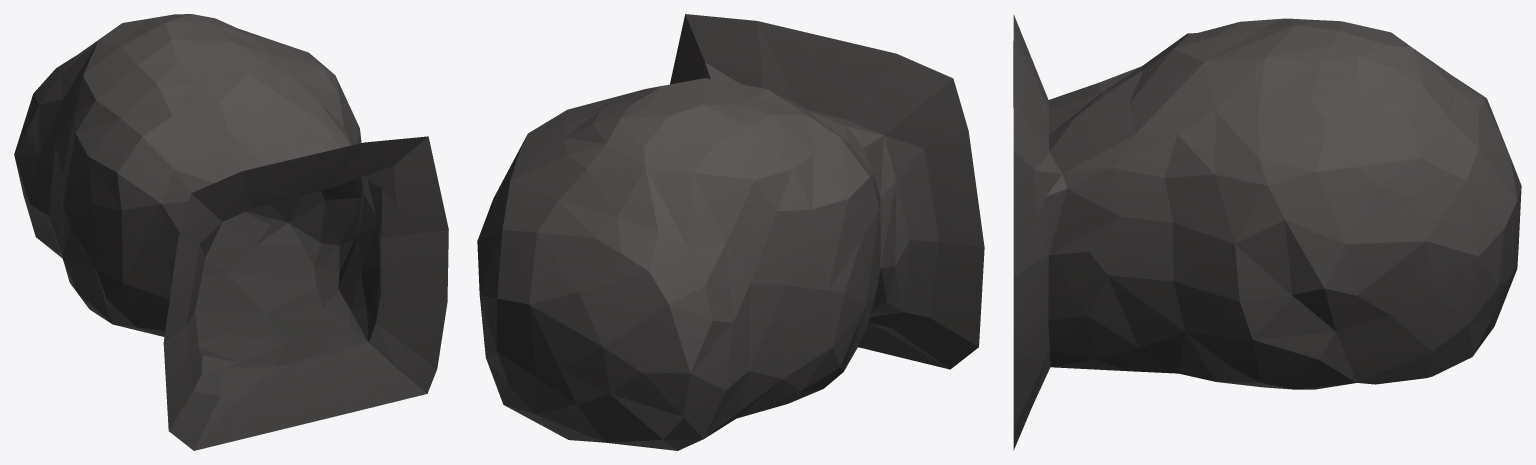
Rendered from ZLP_Cave_B_4.FBX.
3 views of the same model, side by side, from view 1: azimuth 30°, elevation 25°; view 2: azimuth 150°, elevation 25°; view 3: azimuth 270°, elevation 25° (orthographic). The views are drawn at different scales.
Visible parts, largest first — view 1: ZLP_Cave_B_4; view 2: ZLP_Cave_B_4; view 3: ZLP_Cave_B_4.
Part boxes in pixels (<box>): ZLP_Cave_B_4: <box>14,14,448,450</box>; ZLP_Cave_B_4: <box>477,14,984,450</box>; ZLP_Cave_B_4: <box>1013,14,1521,450</box>.
Bounding box in the file's own units: 662 × 624 × 821.
